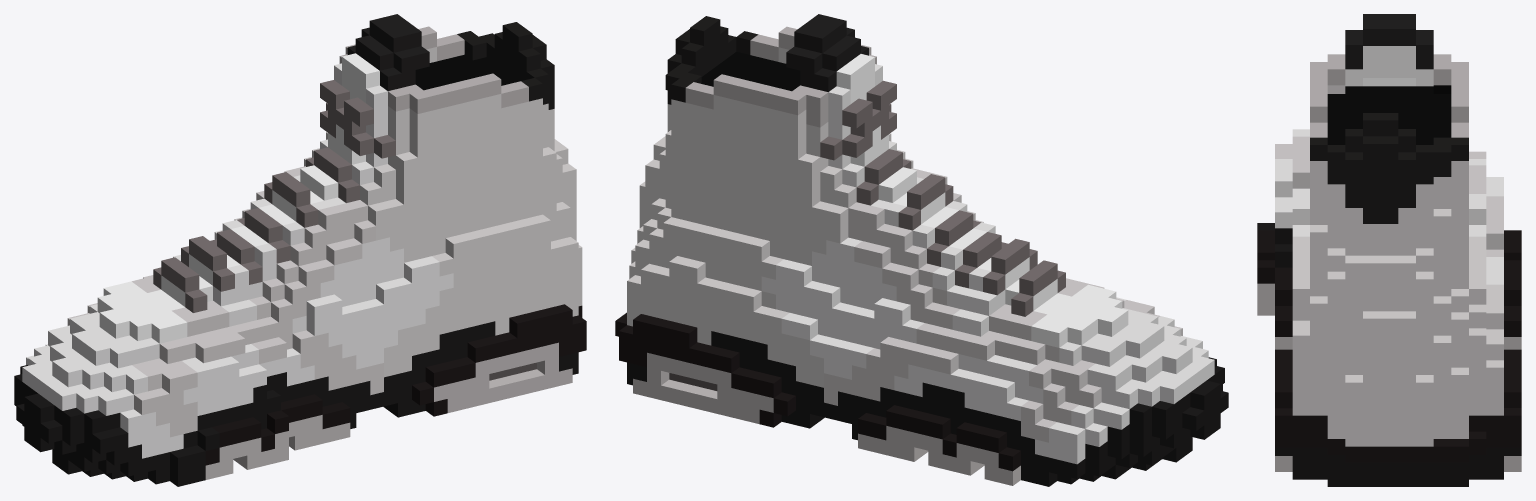
File: Moon Walker.fbx
3 views of the same model, side by side, from view 1: azimuth 30°, elevation 25°; view 2: azimuth 150°, elevation 25°; view 3: azimuth 270°, elevation 25° (orthographic). The views are drawn at different scales.
Visible parts, largest first — view 1: Untitled; view 2: Untitled; view 3: Untitled.
Part boxes in pixels (bbox=[...]): Untitled: bbox=[14, 14, 586, 486]; Untitled: bbox=[615, 14, 1228, 486]; Untitled: bbox=[1257, 14, 1521, 486].
Size of the model in its own units: 390 by 240 by 150.
